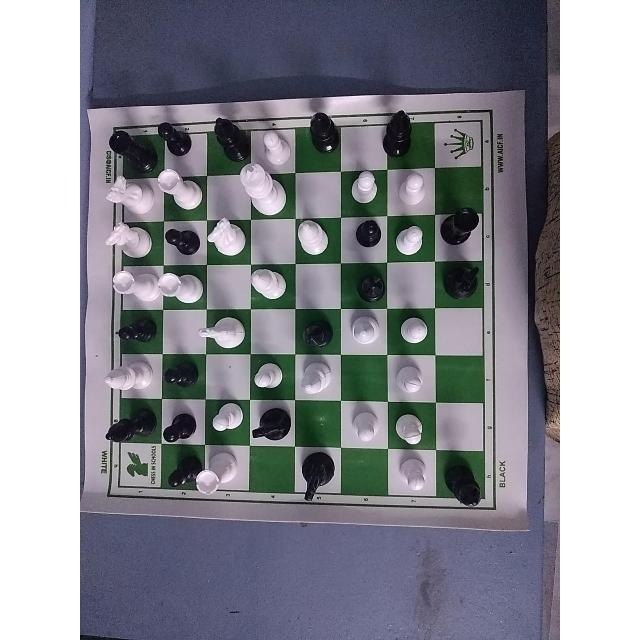black-bishop: (444, 461, 487, 519), (204, 118, 246, 165), (104, 411, 154, 449), (309, 110, 345, 160), (380, 108, 416, 157), (346, 263, 388, 304), (301, 310, 333, 354)
black-knight: (447, 257, 487, 313), (294, 449, 334, 505), (251, 402, 291, 447)
black-pawn: (157, 118, 195, 162), (165, 220, 200, 264), (163, 405, 198, 449), (162, 451, 194, 496), (113, 315, 155, 345), (351, 215, 380, 253), (164, 362, 198, 392)
black-rook: (100, 125, 152, 171), (439, 207, 487, 249)
white-bishop: (104, 357, 154, 397), (293, 220, 336, 260), (252, 265, 296, 304), (342, 310, 380, 354), (297, 356, 333, 398)
white-king: (240, 161, 288, 218)
white-knight: (104, 177, 154, 218), (104, 216, 152, 257), (199, 309, 246, 350), (204, 218, 245, 262)
white-pawn: (392, 354, 431, 406), (393, 307, 437, 353), (387, 454, 432, 498), (341, 170, 387, 211), (390, 409, 432, 451), (253, 129, 300, 165), (394, 166, 434, 208), (395, 219, 429, 263), (206, 400, 244, 439), (350, 402, 380, 449), (253, 352, 283, 393)
white-rook: (157, 168, 202, 216), (113, 264, 157, 312), (157, 266, 202, 306), (199, 453, 239, 493)
